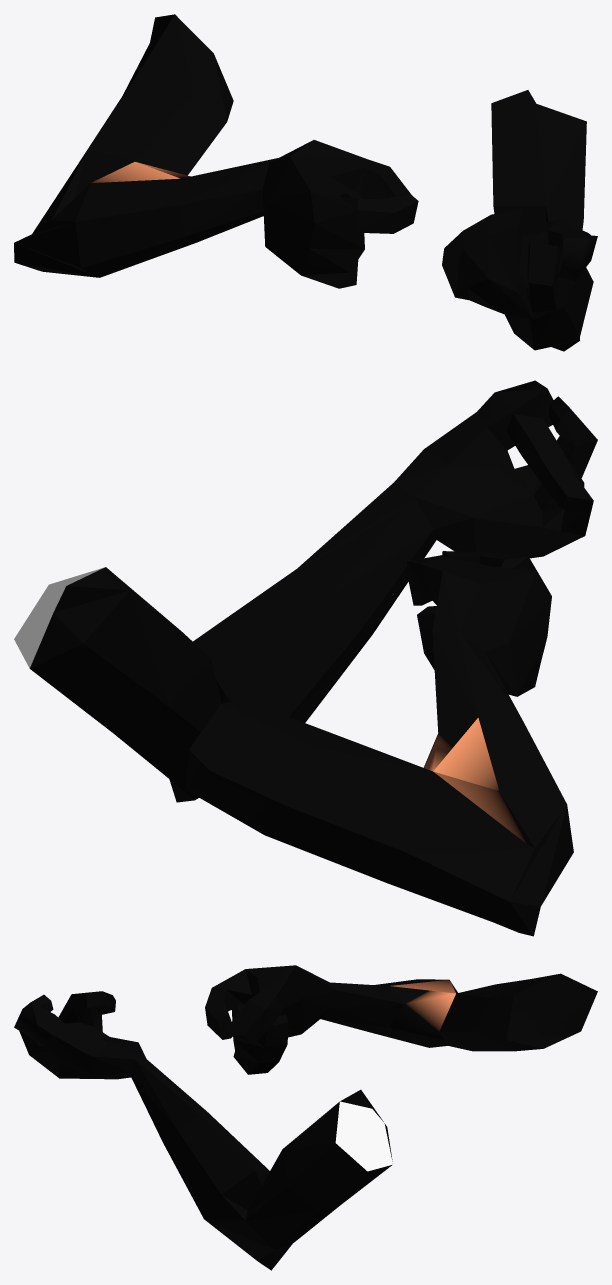
File: the hands.fbx
3 views of the same model, one above another, from view 1: azimuth 30°, elevation 25°; view 2: azimuth 150°, elevation 25°; view 3: azimuth 270°, elevation 25° (orthographic). The views are drawn at different scales.
Parts seen in each view (by area): view 1: the hands; view 2: the hands; view 3: the hands.
Boxes of the visible parts, left/top/right/bottom form: the hands: left=14, top=14, right=597, bottom=351; the hands: left=14, top=380, right=597, bottom=936; the hands: left=14, top=965, right=597, bottom=1270.
Size of the model in its own units: 1077 by 553 by 1361.
